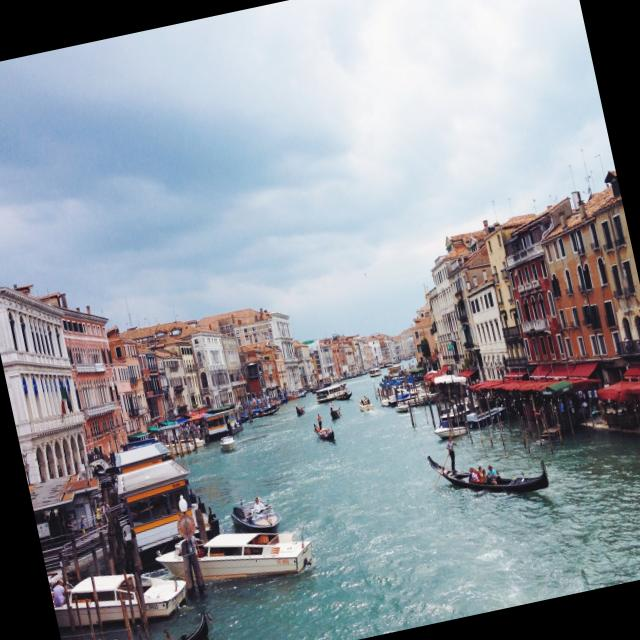boat: (406, 408, 570, 542)
